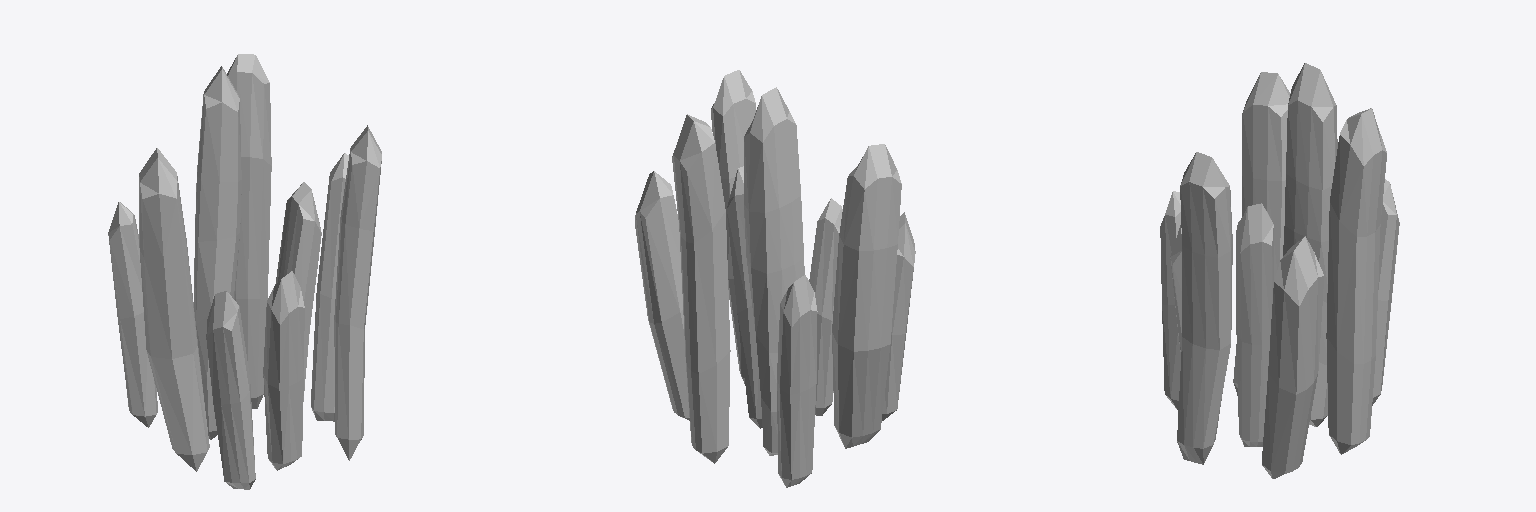
The model's file is Seaweed_A_02_LOD1.obj.
The picture shows the model from 3 angles: view 1: azimuth 30°, elevation 25°; view 2: azimuth 150°, elevation 25°; view 3: azimuth 270°, elevation 25°; orthographic projection.
Parts seen in each view (by area): view 1: Seaweed_A_02_LOD1_Cylinder.372; view 2: Seaweed_A_02_LOD1_Cylinder.372; view 3: Seaweed_A_02_LOD1_Cylinder.372.
Boxes of the visible parts, box(x1,y1,x2,y2) form: Seaweed_A_02_LOD1_Cylinder.372: box(108, 54, 381, 489); Seaweed_A_02_LOD1_Cylinder.372: box(635, 70, 915, 487); Seaweed_A_02_LOD1_Cylinder.372: box(1160, 63, 1399, 478).
Size of the model in its own units: 4.36 by 6.18 by 3.66.